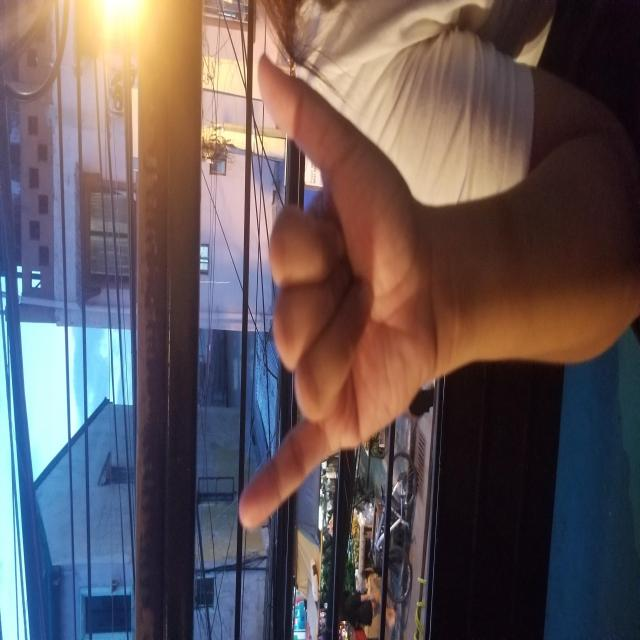Y: (230, 43, 445, 534)
